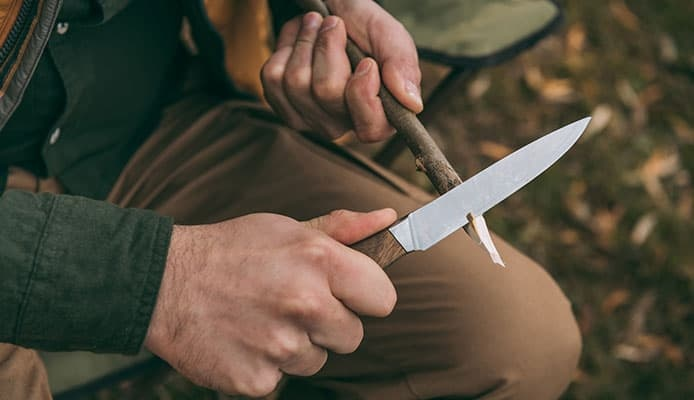knife: (295, 115, 595, 270)
